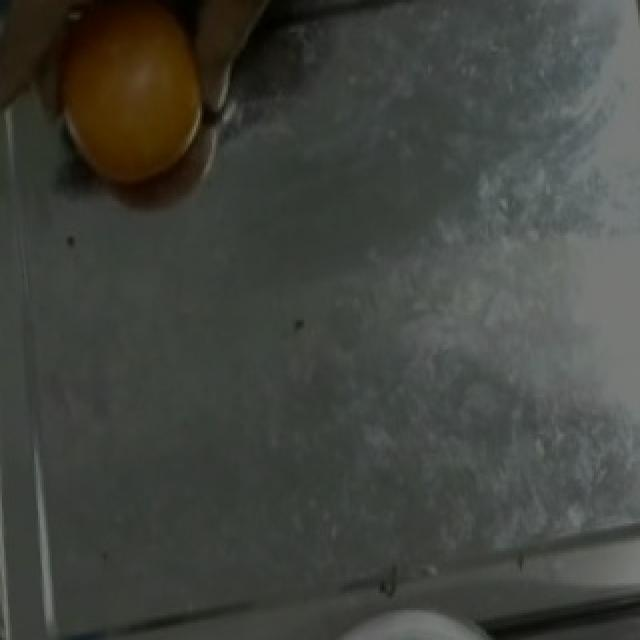Fruit: (32, 0, 232, 211)
